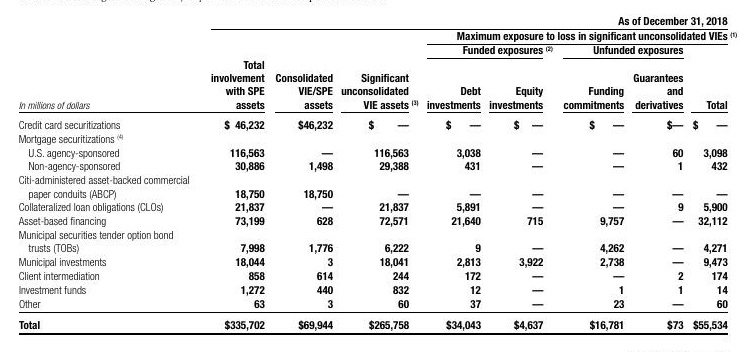table: (0, 0, 753, 352)
